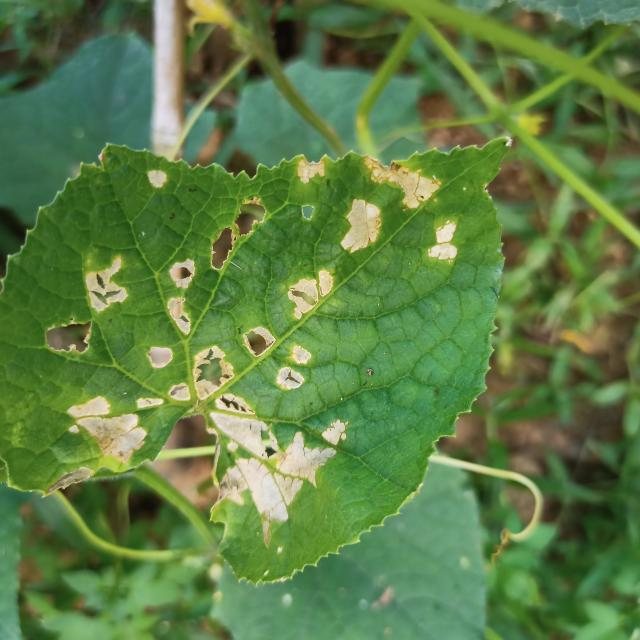disease_cucumber: (34, 253, 350, 541), (211, 138, 470, 322), (143, 165, 171, 201)
